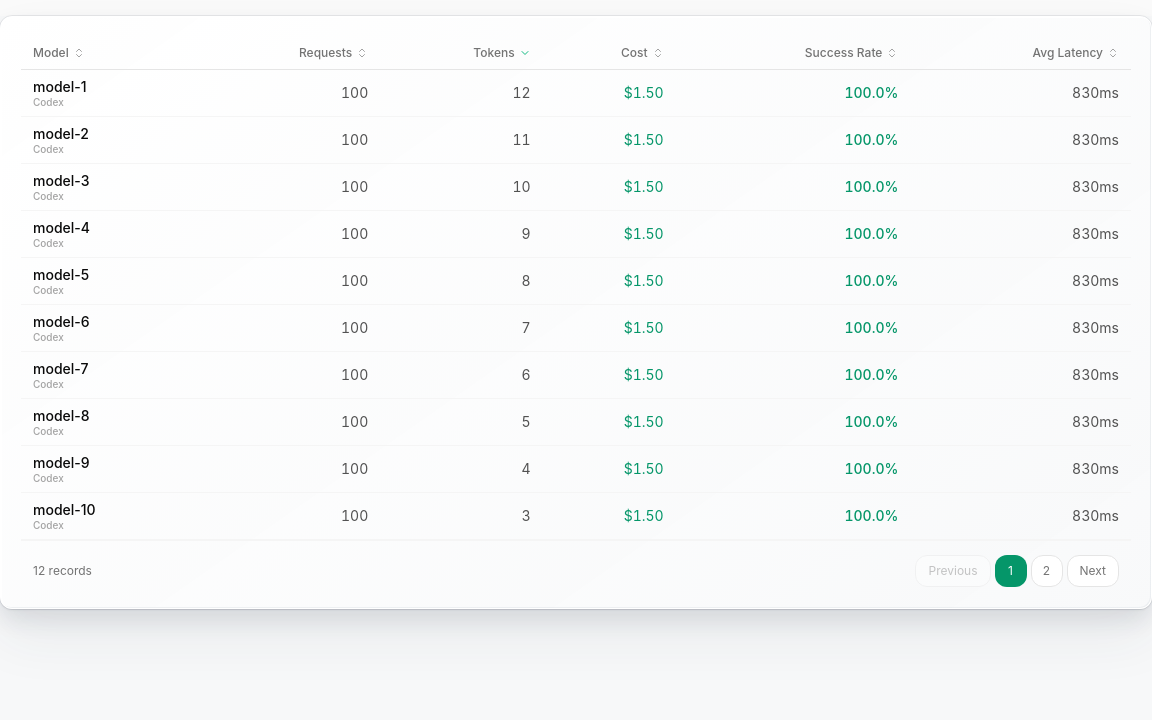
ModelUsageTable › keeps the model card fixed to ten rows and paginates the rest
This screenshot has width=1152, height=720.
Expected: the text "12 records" is shown, [33,562,92,578]
Click the button "2": x=1046, y=570 [1030,554,1062,586]
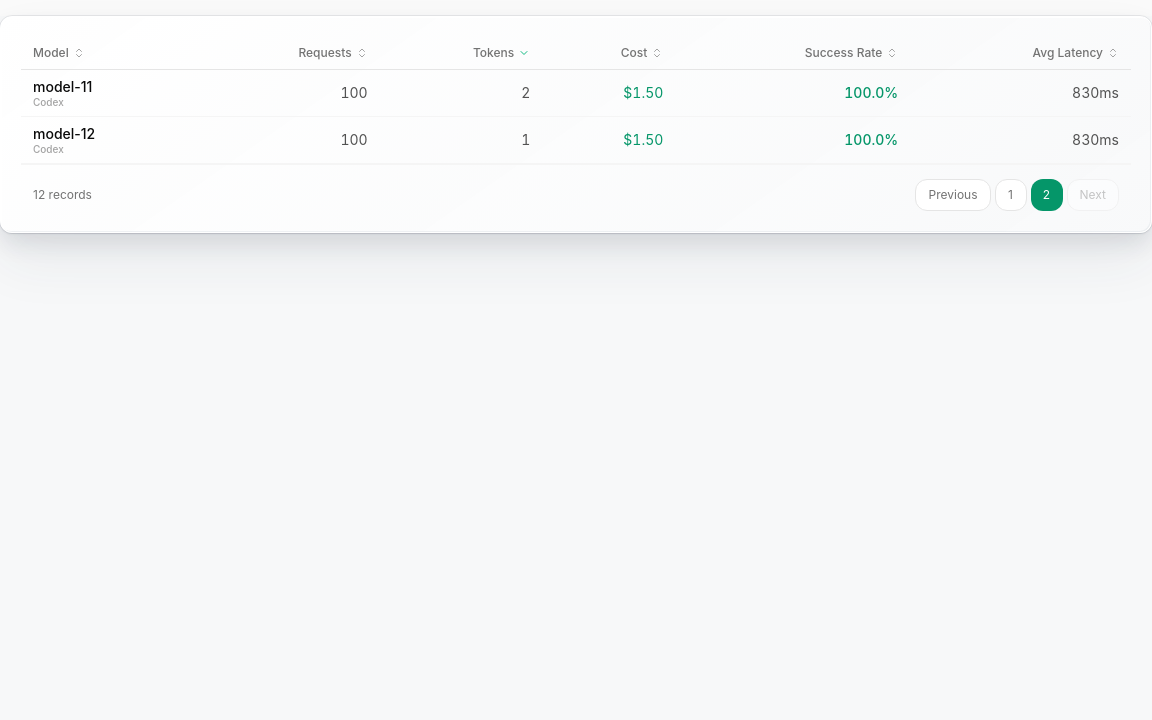
Now the text "model-11" is shown, box [33,78,92,95]
